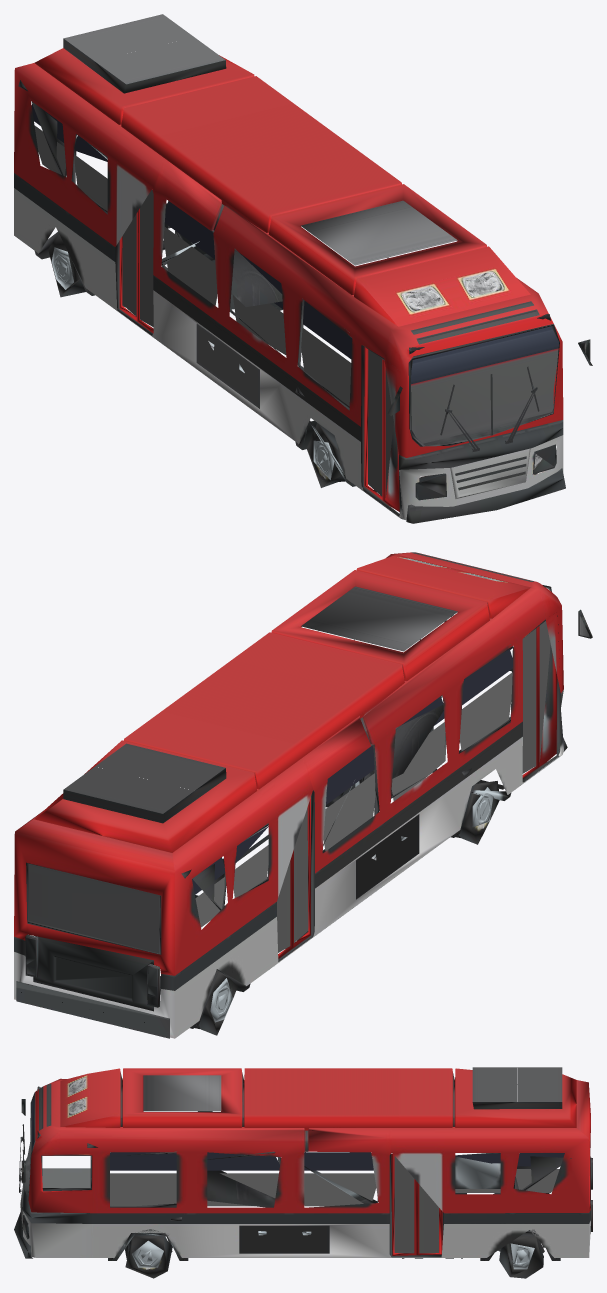
Rendered from bus_lo.glb.
3 renders of one model, top to bottom at view 1: azimuth 30°, elevation 25°; view 2: azimuth 150°, elevation 25°; view 3: azimuth 270°, elevation 25°, orthographic. The views are drawn at different scales.
Parts seen in each view (by area): view 1: bus.1; view 2: bus.1; view 3: bus.1.
Part boxes in pixels (x1=…): bus.1: x1=14, y1=14, x2=592, y2=523; bus.1: x1=14, y1=552, x2=592, y2=1038; bus.1: x1=14, y1=1067, x2=592, y2=1278.
Bounding box in the file's own units: 0.2847 × 0.3131 × 0.9855.
Materials: 1 (1 with a texture image).
